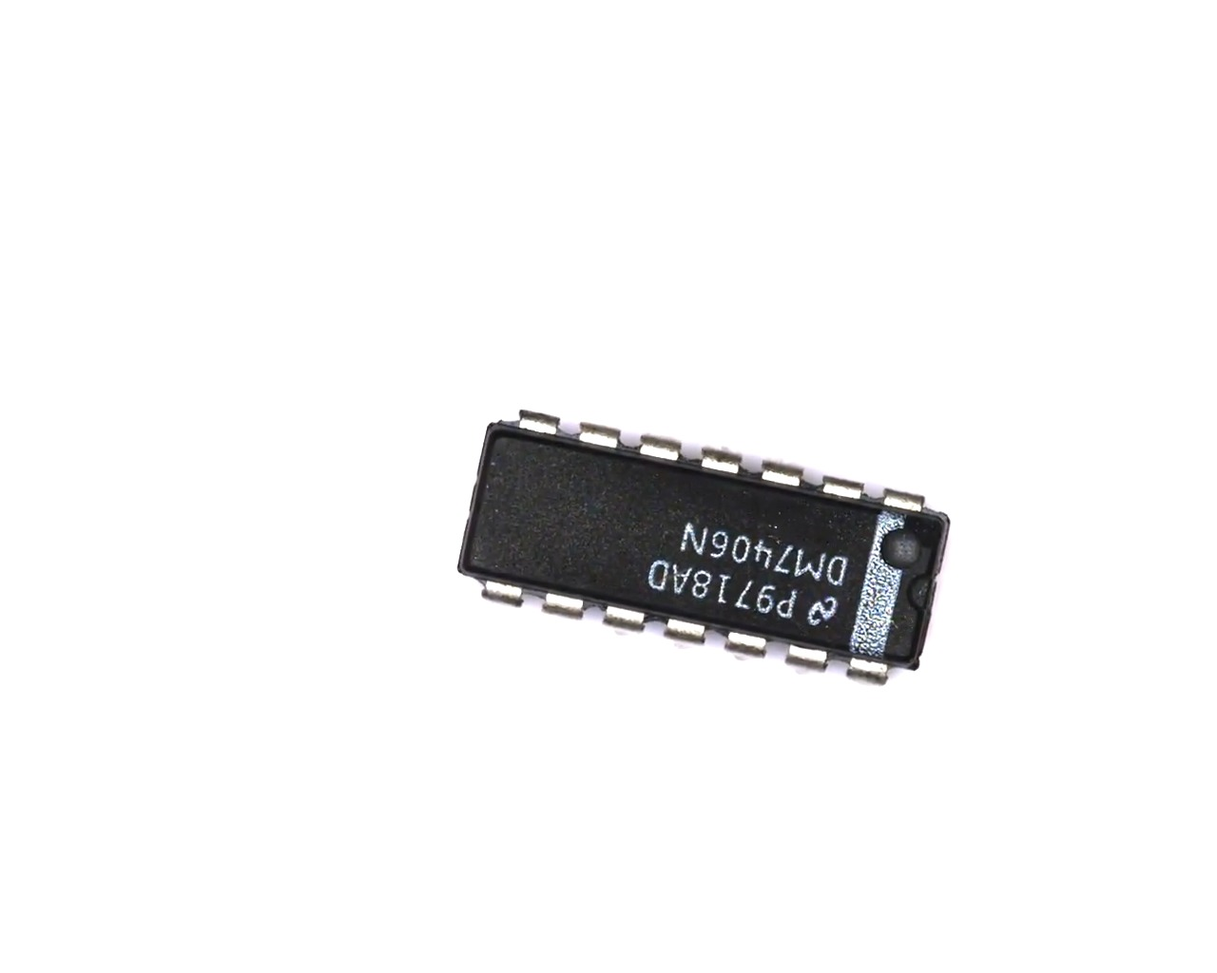IC: (441, 388, 971, 707)
notch: (907, 569, 940, 618)
